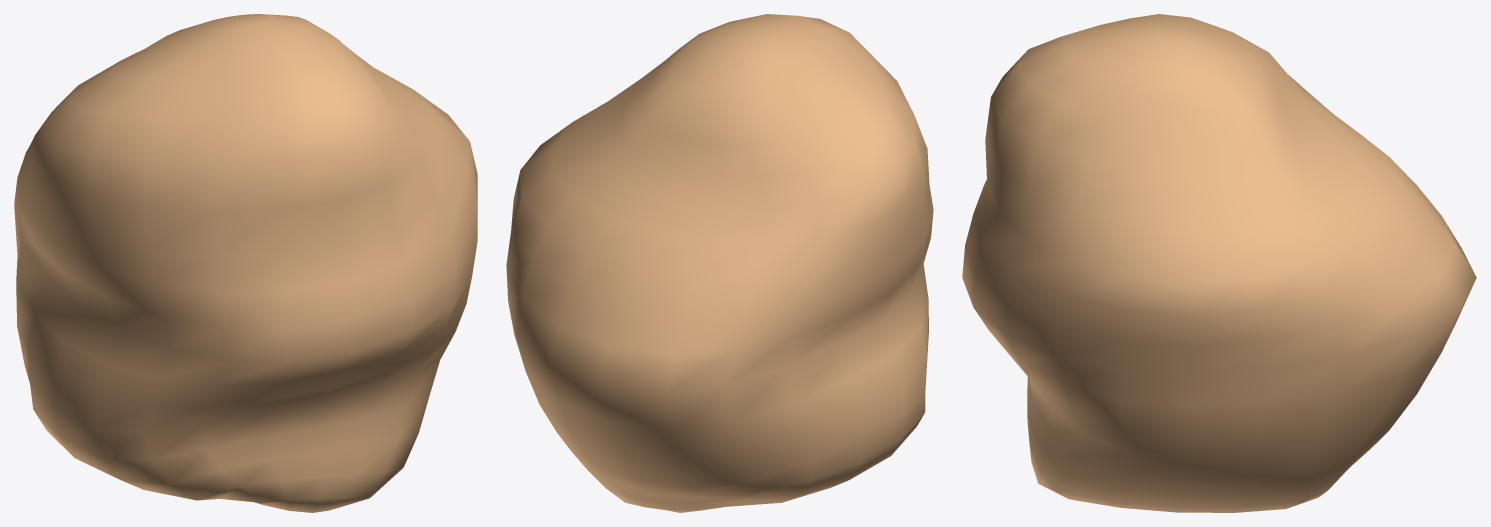
Rendered from Crumb Big2.fbx.
The picture shows the model from 3 angles, left to right: view 1: azimuth 30°, elevation 25°; view 2: azimuth 150°, elevation 25°; view 3: azimuth 270°, elevation 25°; orthographic projection. The views are drawn at different scales.
Visible parts, largest first — view 1: pSphere1; view 2: pSphere1; view 3: pSphere1.
Boxes of the visible parts, bbox=[...] form: pSphere1: bbox=[14, 14, 477, 512]; pSphere1: bbox=[506, 14, 933, 512]; pSphere1: bbox=[962, 14, 1476, 512].
Bounding box in the file's own units: 1.56 × 1.73 × 1.8.
